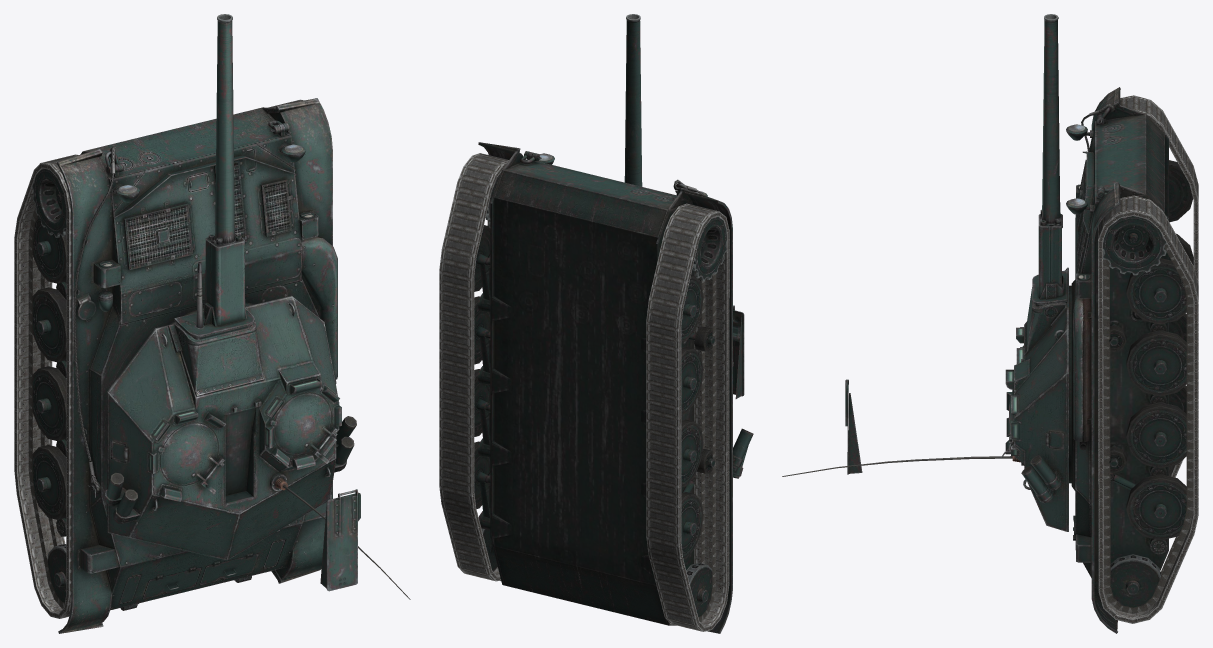
The picture shows the model from 3 angles, left to right: view 1: azimuth 30°, elevation 25°; view 2: azimuth 150°, elevation 25°; view 3: azimuth 270°, elevation 25°; orthographic projection. The views are drawn at different scales.
Visible parts, largest first — view 1: turret_01, hull, hull_nc, chassis_track_L, turret_01_nc, gun_01_mask, gun_01, turret_01_cap, chassis_wheel_L_04, chassis_wheel_L_05, chassis_wheel_L_07, chassis_wheel_L_01 (+4 smaller); view 2: hull, chassis_track_L, chassis_track_R, hull_nc, gun_01, chassis_wheel_L_01, chassis_wheel_L_05, chassis_wheel_L_04, chassis_wheel_L_07, turret_01_cap, chassis_wheel_L_08, chassis_wheel_L_02 (+5 smaller); view 3: hull, chassis_track_R, turret_01, hull_nc, gun_01, chassis_wheel_R_05, chassis_wheel_R_04, chassis_wheel_R_07, chassis_wheel_R_02, chassis_wheel_R_01, chassis_track_L, chassis_wheel_R_08 (+4 smaller).
Part boxes in pixels (box(x1,y1,x2,y2)): turret_01: box(107, 295, 341, 560); hull: box(80, 107, 319, 610); hull_nc: box(56, 98, 337, 633); chassis_track_L: box(14, 154, 78, 618); turret_01_nc: box(104, 302, 410, 599); gun_01_mask: box(174, 233, 254, 339); gun_01: box(215, 14, 234, 243); turret_01_cap: box(320, 492, 360, 591); chassis_wheel_L_04: box(32, 287, 66, 362); chassis_wheel_L_05: box(32, 366, 66, 440); chassis_wheel_L_07: box(32, 445, 66, 519); chassis_wheel_L_01: box(32, 168, 66, 237); hull: box(490, 159, 694, 625); chassis_track_L: box(646, 203, 729, 631); chassis_track_R: box(439, 153, 508, 581); hull_nc: box(476, 142, 733, 633); gun_01: box(624, 14, 642, 186); chassis_wheel_L_01: box(692, 216, 726, 280); chassis_wheel_L_05: box(681, 419, 703, 487); chassis_wheel_L_04: box(681, 347, 703, 414); chassis_wheel_L_07: box(681, 492, 703, 559); turret_01_cap: box(733, 310, 744, 398); chassis_wheel_L_08: box(686, 563, 712, 616); chassis_wheel_L_02: box(681, 275, 703, 342); hull: box(1071, 113, 1168, 590); chassis_track_R: box(1098, 195, 1198, 623); turret_01: box(1005, 267, 1071, 531); hull_nc: box(1066, 87, 1168, 633); gun_01: box(1042, 14, 1060, 224); chassis_wheel_R_05: box(1126, 402, 1186, 468); chassis_wheel_R_04: box(1126, 330, 1186, 396); chassis_wheel_R_07: box(1126, 474, 1186, 540); chassis_wheel_R_02: box(1126, 258, 1186, 324); chassis_wheel_R_01: box(1103, 216, 1166, 275); chassis_track_L: box(1120, 95, 1198, 477); chassis_wheel_R_08: box(1110, 554, 1161, 607).
Bounding box in the file's own units: 2.25 × 5.07 × 3.41.
2 materials, 2 textured.
